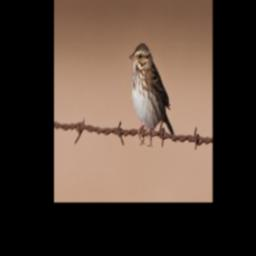Sparrow: (128, 43, 178, 146)
